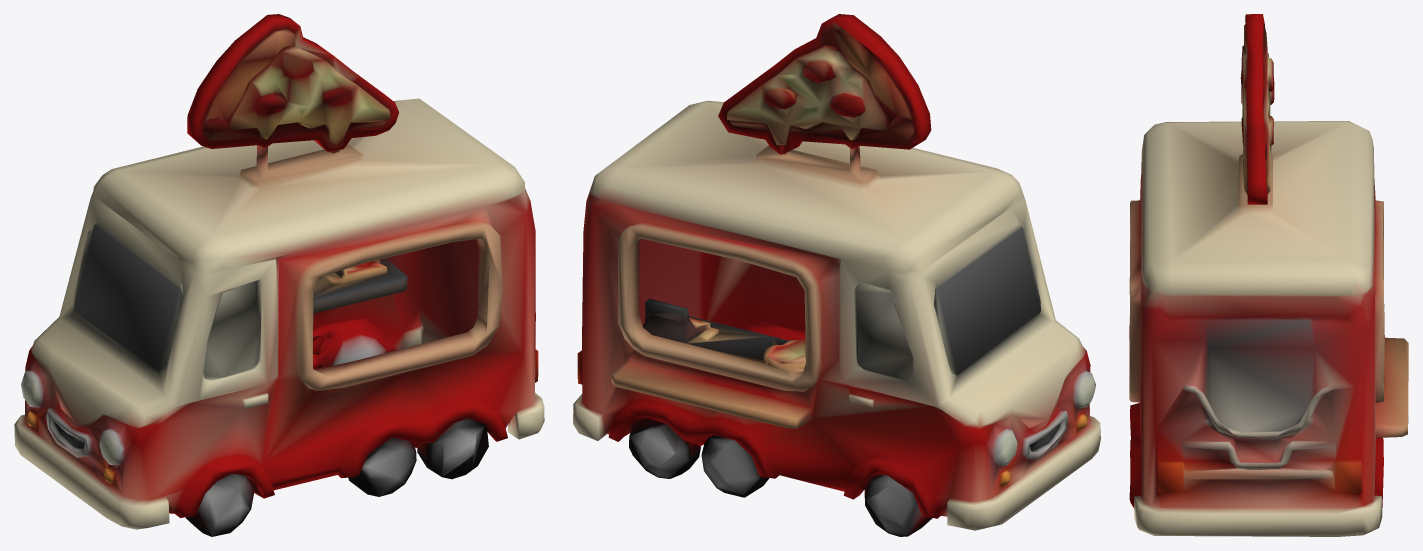
The model's file is meshy-foodtruck.glb.
3 views of the same model, side by side, from view 1: azimuth 30°, elevation 25°; view 2: azimuth 150°, elevation 25°; view 3: azimuth 270°, elevation 25° (orthographic).
Parts seen in each view (by area): view 1: Mesh_0; view 2: Mesh_0; view 3: Mesh_0.
Boxes of the visible parts, <box> form: Mesh_0: <box>14,14,544,536</box>; Mesh_0: <box>573,14,1100,536</box>; Mesh_0: <box>1129,14,1408,536</box>.
Bounding box in the file's own units: 1.89 × 1.9 × 1.08.
